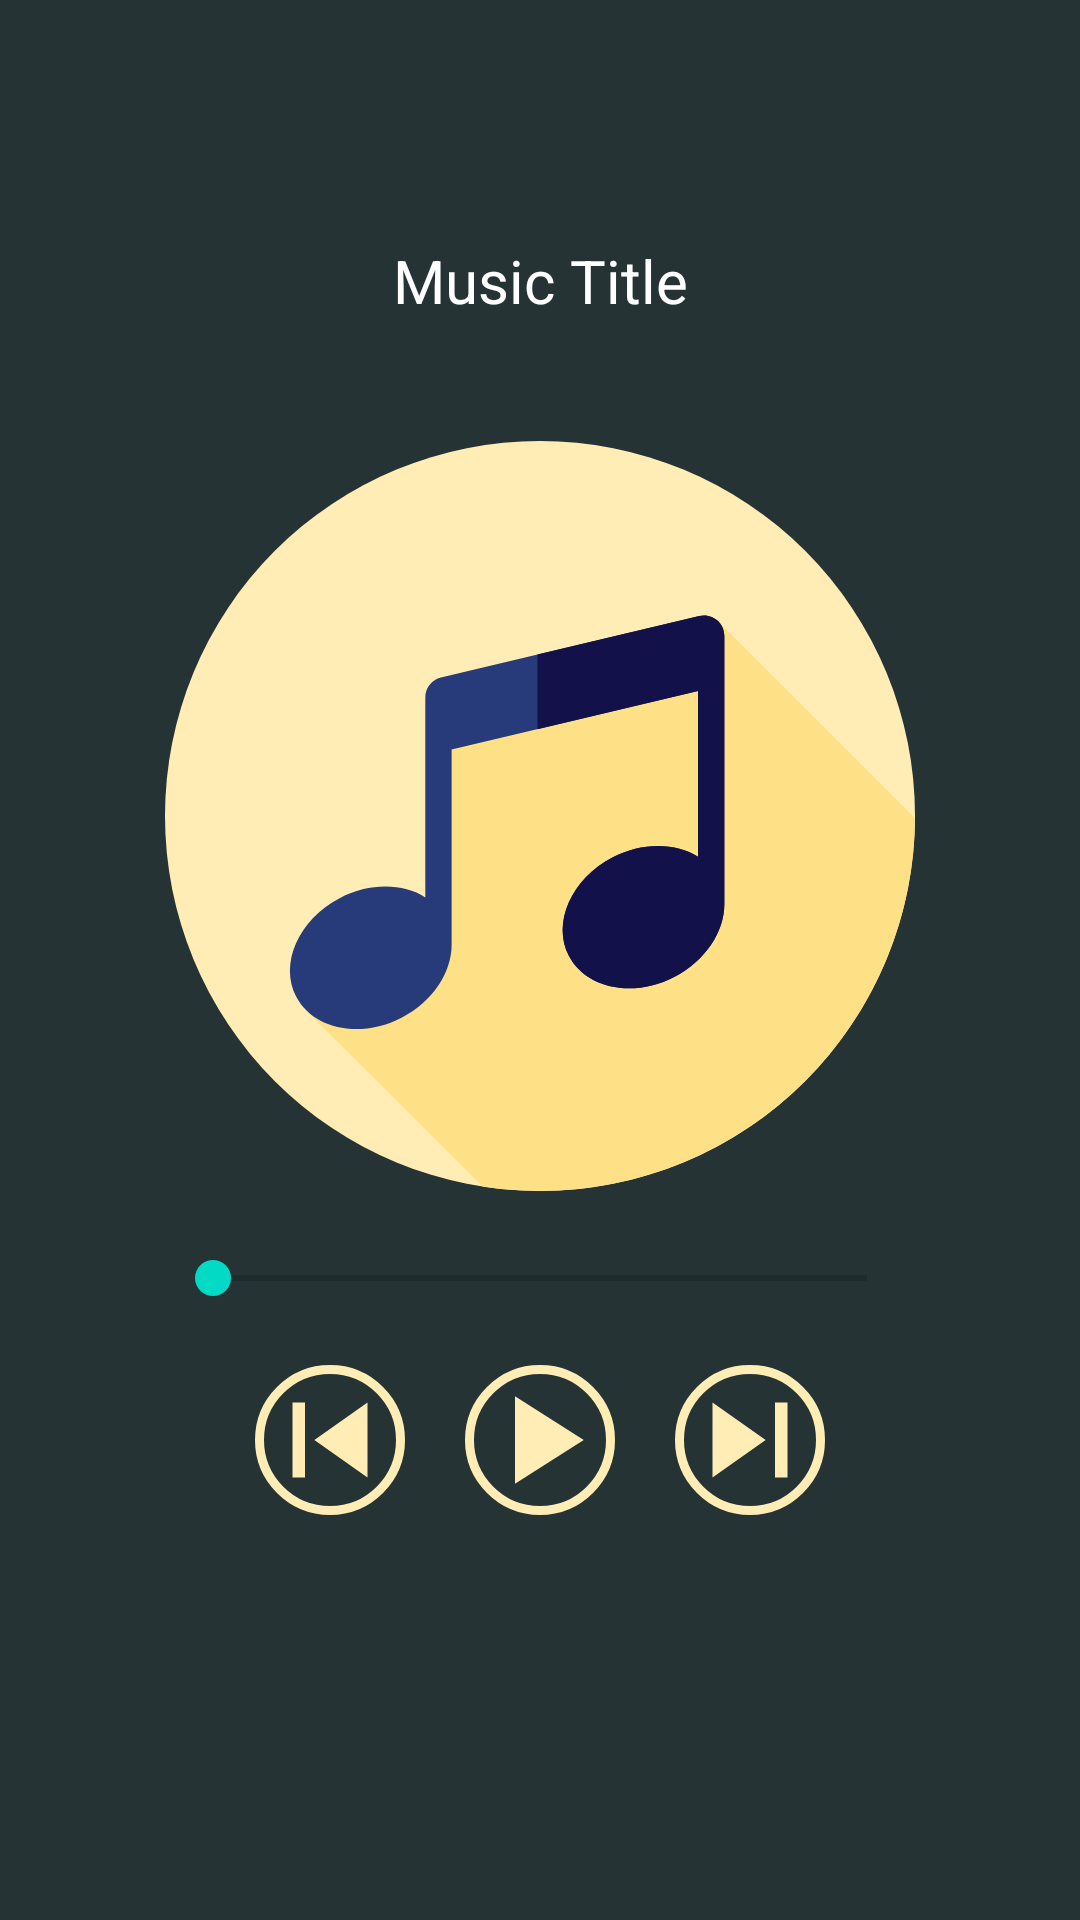

Icon click points for this 1080 x 1920 phone screenshot, format (x,y):
play arrow: (540,1440)
skip next: (750,1440)
skip previous: (330,1440)
